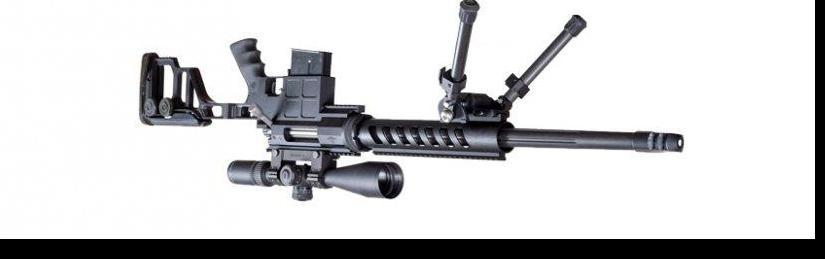larga: (137, 0, 686, 202)
